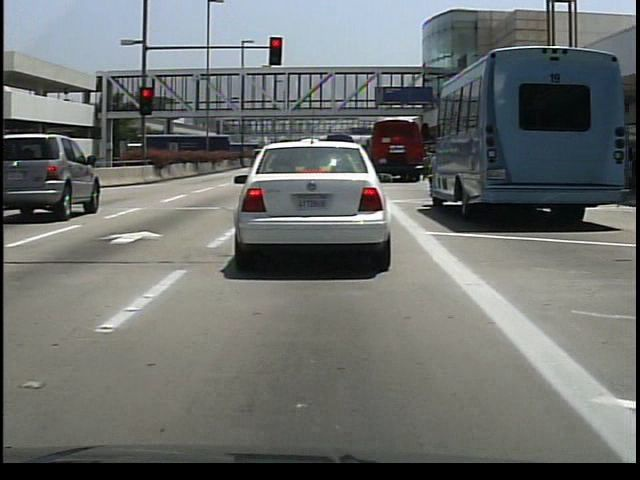person: (423, 140, 434, 180), (626, 145, 629, 193)
